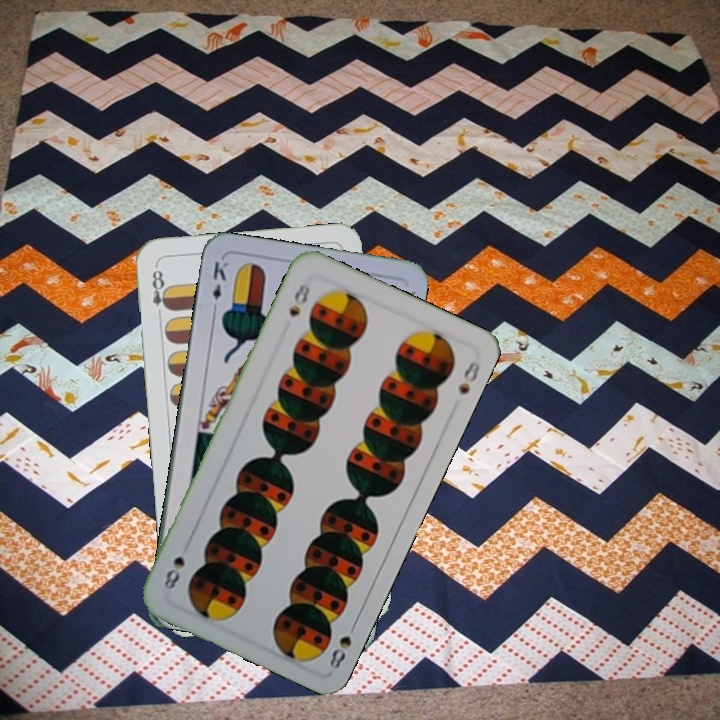E8: (148, 262, 172, 322)
EK: (208, 257, 231, 316)
S8: (325, 616, 360, 672), (285, 278, 313, 319)
